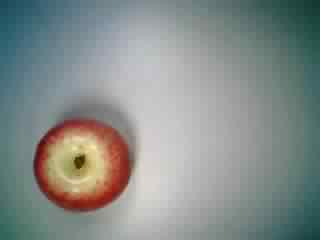apple: (29, 112, 136, 216)
